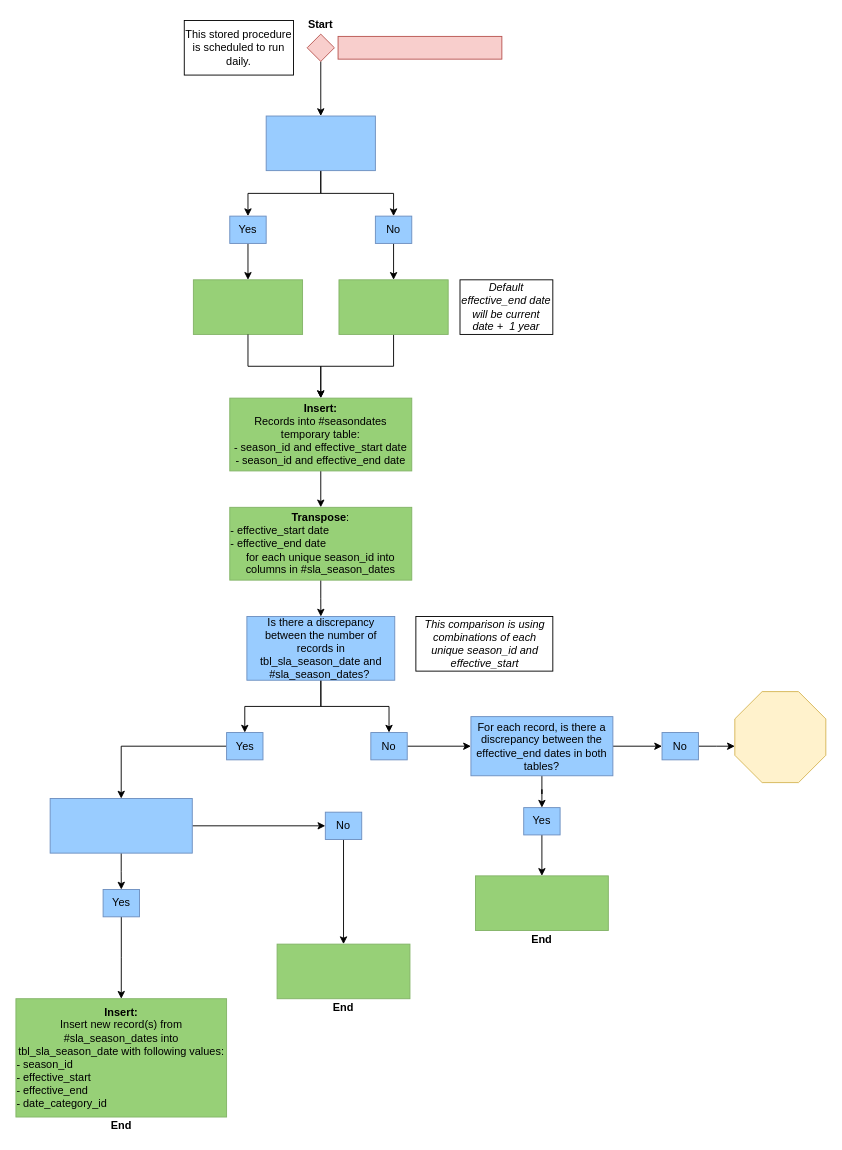
Image size: 842x1150. Some labels were removed from this diagram. The shapes that lost their labels are listed below. From the top down, each one's box as (x1, y1, x2, y2) in pixels, then its label:
(337, 35, 502, 59): sp_m_tbl_sla_season_date
(265, 115, 375, 171): Does the season have a effective_end date?
(192, 279, 303, 334): Use the effective_end date
(338, 279, 448, 334): Calculate default effective_end date
(734, 691, 826, 783): No Transaction Required
(49, 798, 192, 853): Are there more rows in #sla_season_dates than in tbl_sla_season_date?
(475, 875, 608, 930): Update: Record into tbl_sla_season_date
(276, 943, 410, 999): Delete: Record from tbl_sla_season_date
